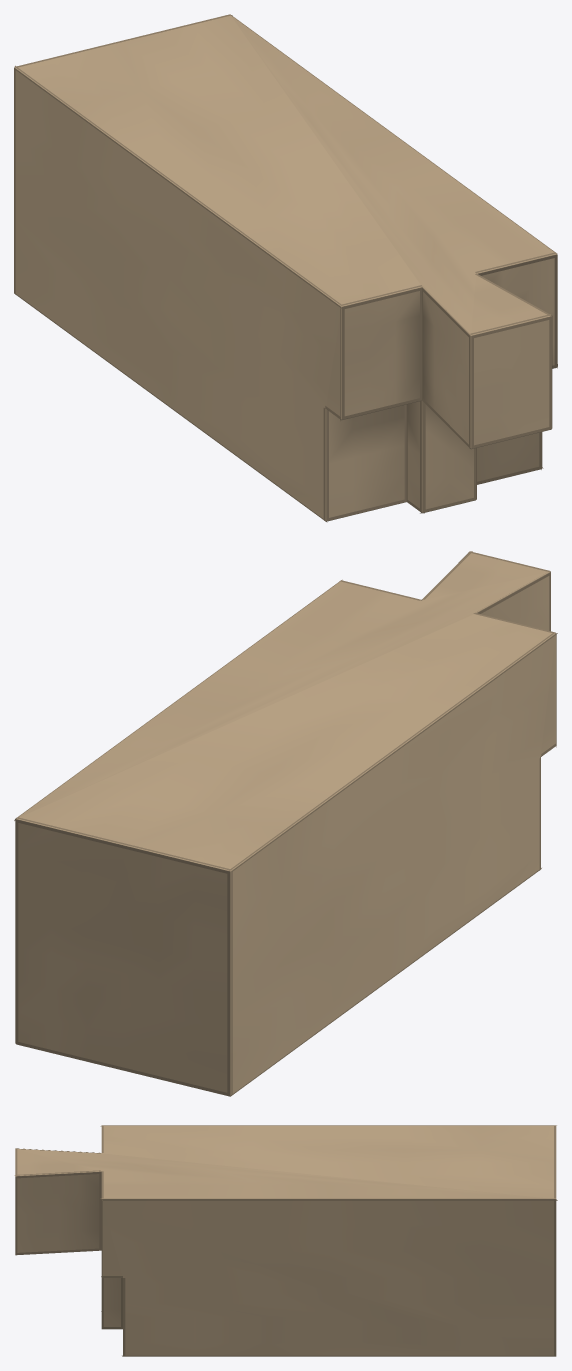
3 views of the same model, one above another, from view 1: azimuth 30°, elevation 25°; view 2: azimuth 150°, elevation 25°; view 3: azimuth 270°, elevation 25° (orthographic). The views are drawn at different scales.
Parts seen in each view (by area): view 1: part-a; view 2: part-a; view 3: part-a.
Boxes of the visible parts, x1,y1,x2,y2 form: part-a: (14,14,557,522); part-a: (14,551,557,1096); part-a: (14,1125,557,1356).
Size of the model in its own units: 0.1208 by 0.1208 by 0.377.
